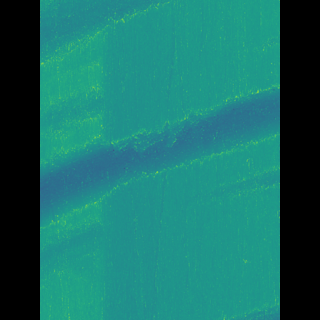Loch: (68, 77, 250, 284), (69, 0, 168, 69)
